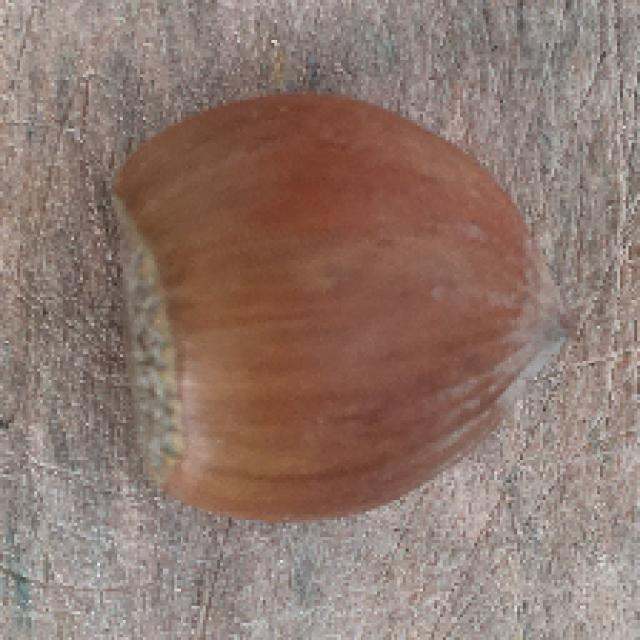damagedHazelnut: (96, 92, 580, 527)
